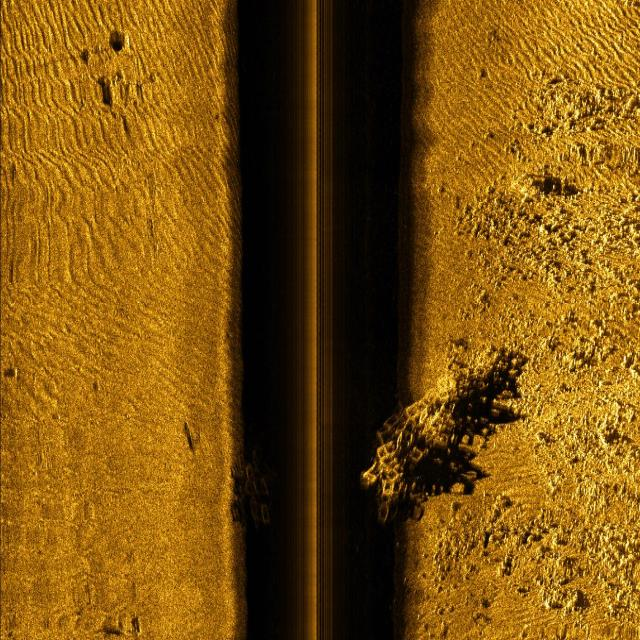artificial reef: (356, 360, 494, 524), (241, 447, 282, 528)
